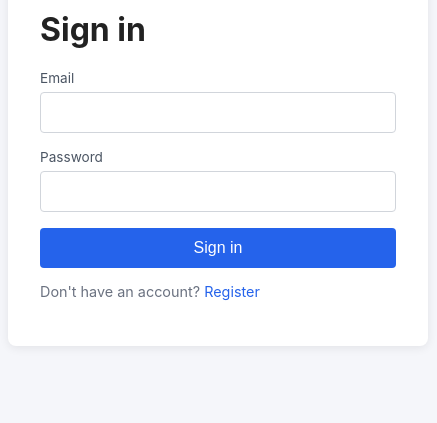
Test: LoginPage — sign-in flow › shows the server error on 401 and does not navigate away
Type "demo@example.com" into the field labelled "Email" at (218, 113), box [40, 92, 396, 133]
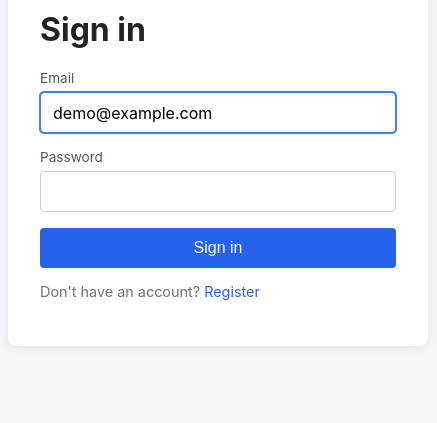
Type "wrong-password" into the password field labelled "Password" at (218, 191), box [40, 171, 396, 212]
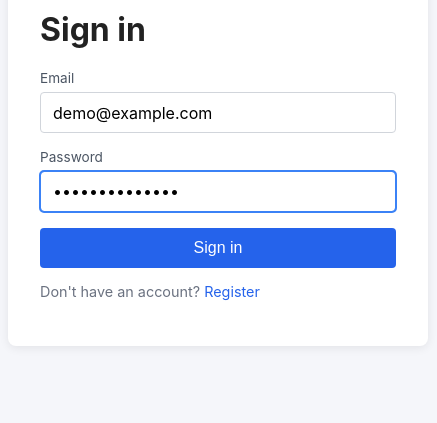
Click the button "Sign in" at (218, 248), box [40, 228, 396, 268]
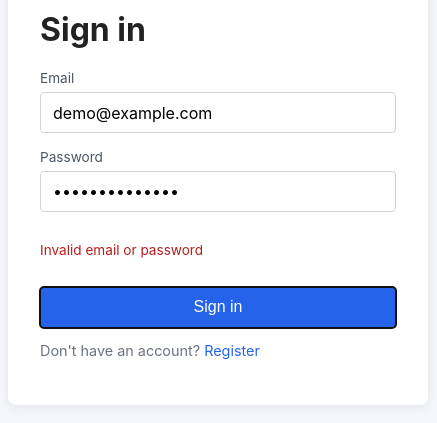
Now the text "Invalid email or password" is shown, box [40, 242, 203, 258]
